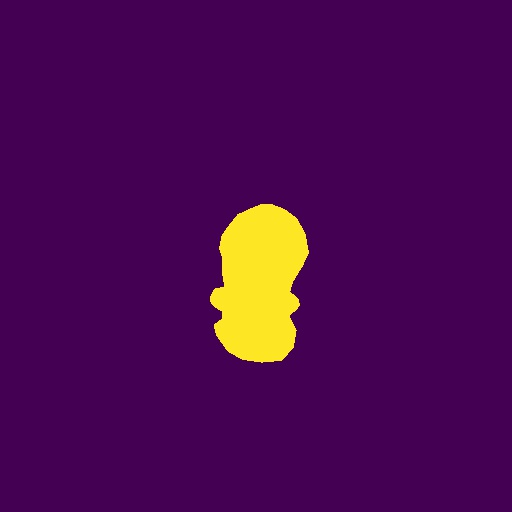Pituirity_tumour: (210, 204, 309, 363)
